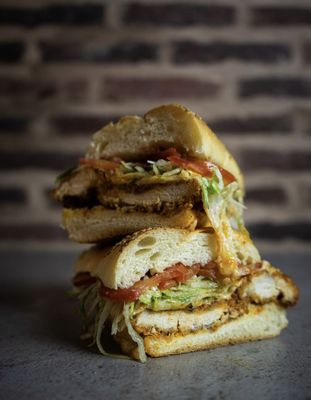soup: (53, 104, 300, 362)
